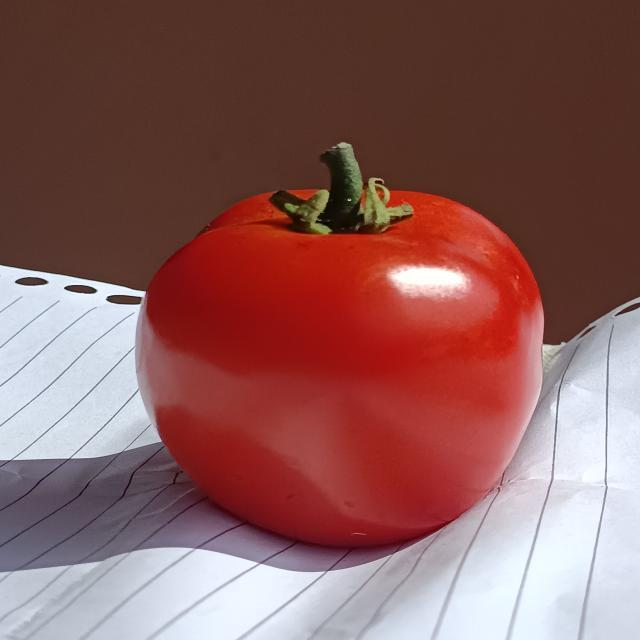Masak: (129, 165, 576, 543)
